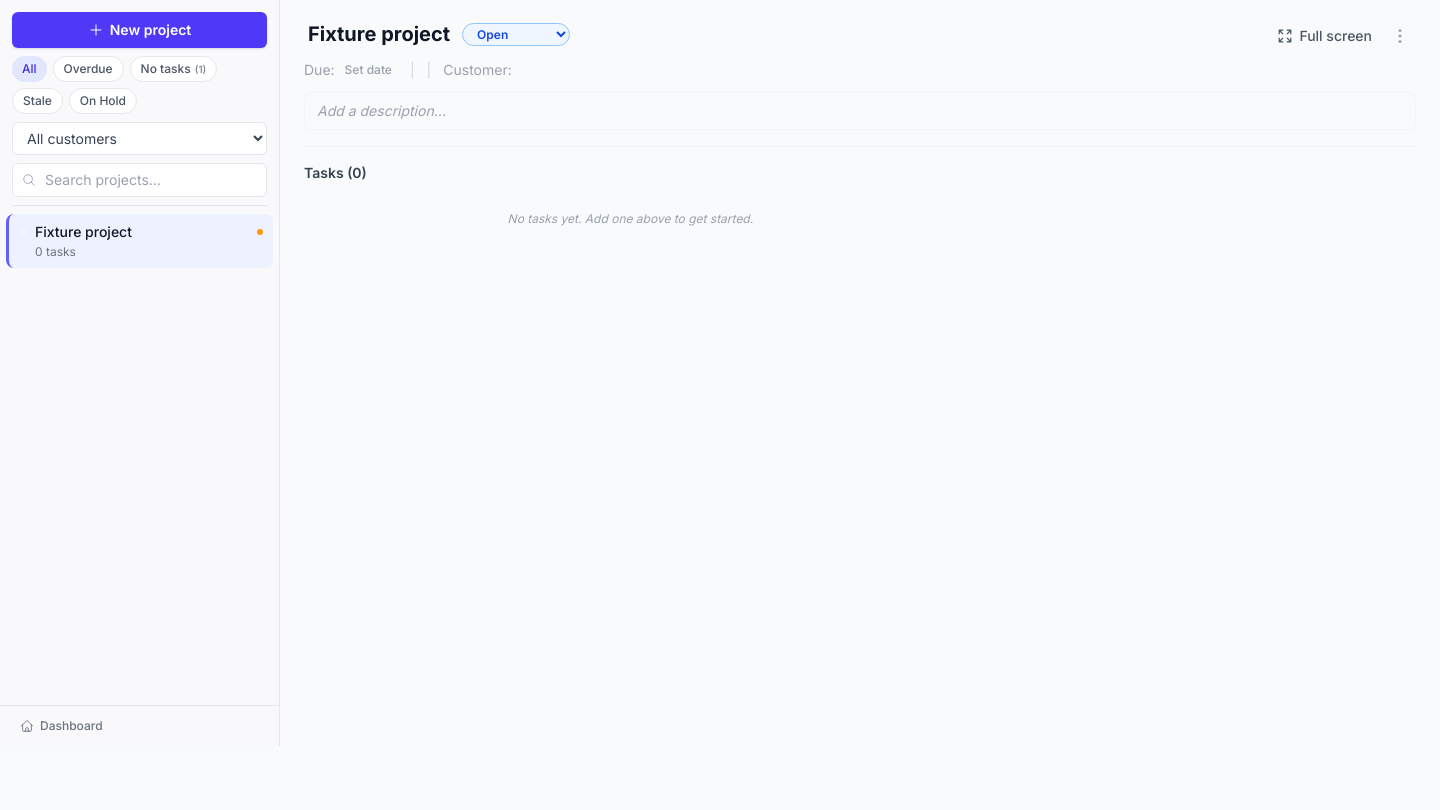
Scenario: shows customer facts after a successful customer-linked impact check
The image size is (1440, 810).
Expected: the button with aria-label "Edit Project name" is shown, top-left (304, 20), bottom-right (454, 48)
Select "Completed" in the dropdown named "Project status". click: (516, 34)
box: top-left (462, 22), bottom-right (570, 46)
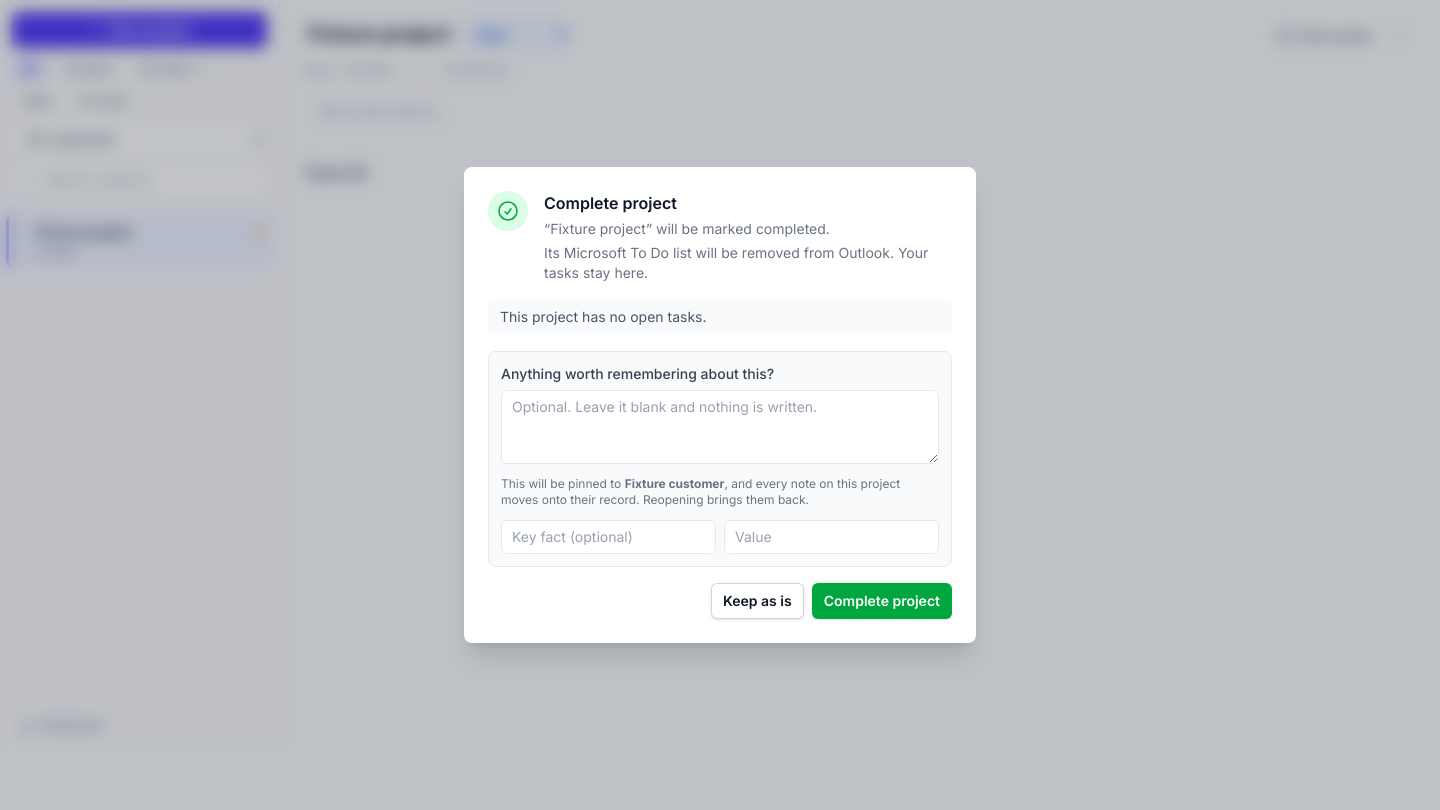
Result: the field named "Key fact label" is shown at top-left (501, 520), bottom-right (716, 554)
